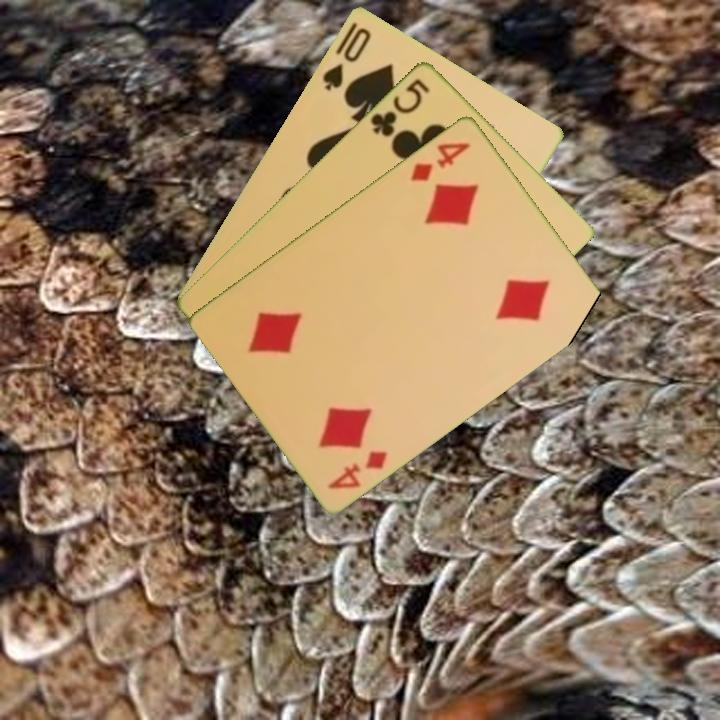10s: (318, 23, 374, 93)
4d: (406, 138, 474, 184), (324, 446, 391, 492)
5c: (367, 74, 433, 139)
